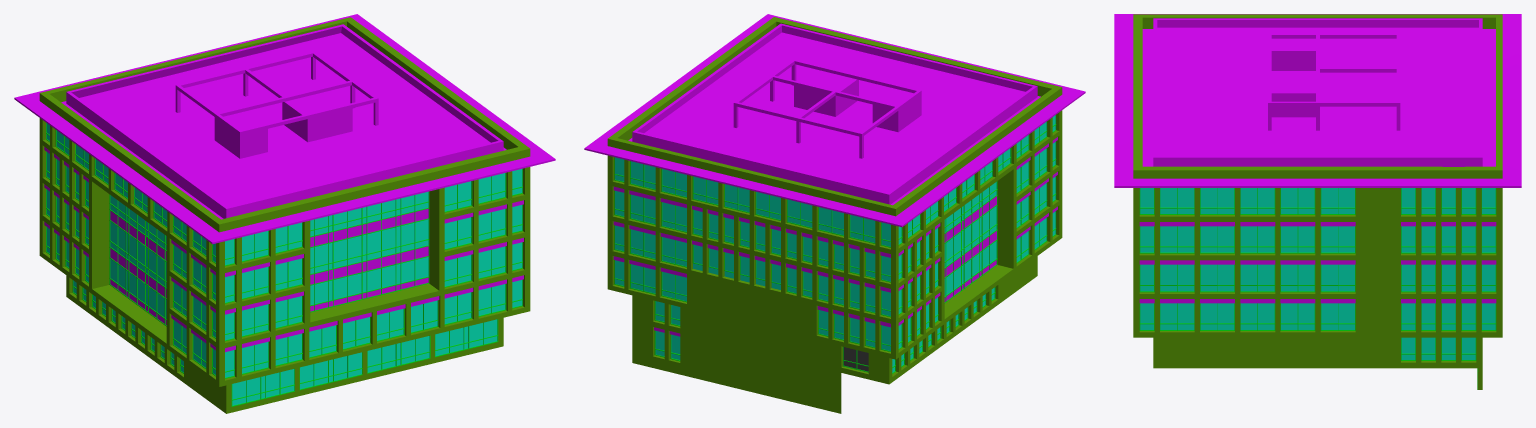
Rendered from SM_Bld_Blok4_01a.fbx.
3 renders of one model, left to right at view 1: azimuth 30°, elevation 25°; view 2: azimuth 150°, elevation 25°; view 3: azimuth 270°, elevation 25°, orthographic. The views are drawn at different scales.
Parts seen in each view (by area): view 1: SM_Bld_Blok4_01a, SM_Bld_Blok4_01b; view 2: SM_Bld_Blok4_01a, SM_Bld_Blok4_01b; view 3: SM_Bld_Blok4_01a, SM_Bld_Blok4_01b.
Part boxes in pixels (x1=…): SM_Bld_Blok4_01a: x1=14, y1=14, x2=555, y2=413; SM_Bld_Blok4_01b: x1=46, y1=123, x2=522, y2=406; SM_Bld_Blok4_01a: x1=584, y1=14, x2=1085, y2=413; SM_Bld_Blok4_01b: x1=614, y1=115, x2=1056, y2=373; SM_Bld_Blok4_01a: x1=1114, y1=14, x2=1521, y2=389; SM_Bld_Blok4_01b: x1=1139, y1=188, x2=1496, y2=389.
Size of the model in its own units: 2945 by 2202 by 2945.
